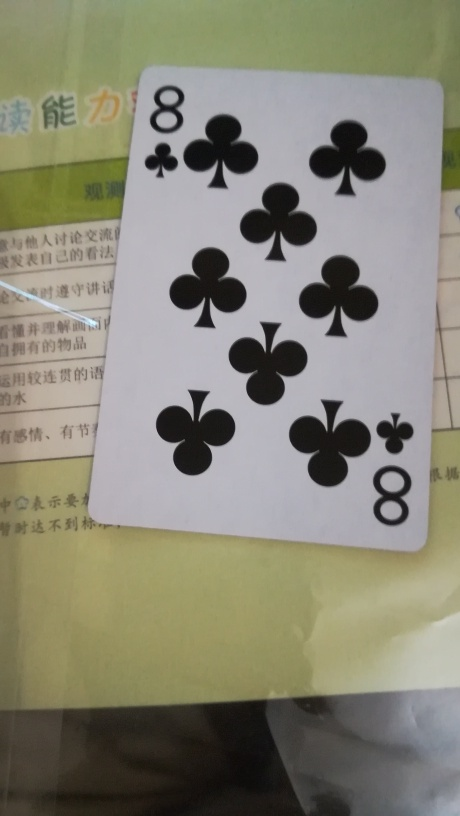mh 8: (87, 66, 443, 556)
